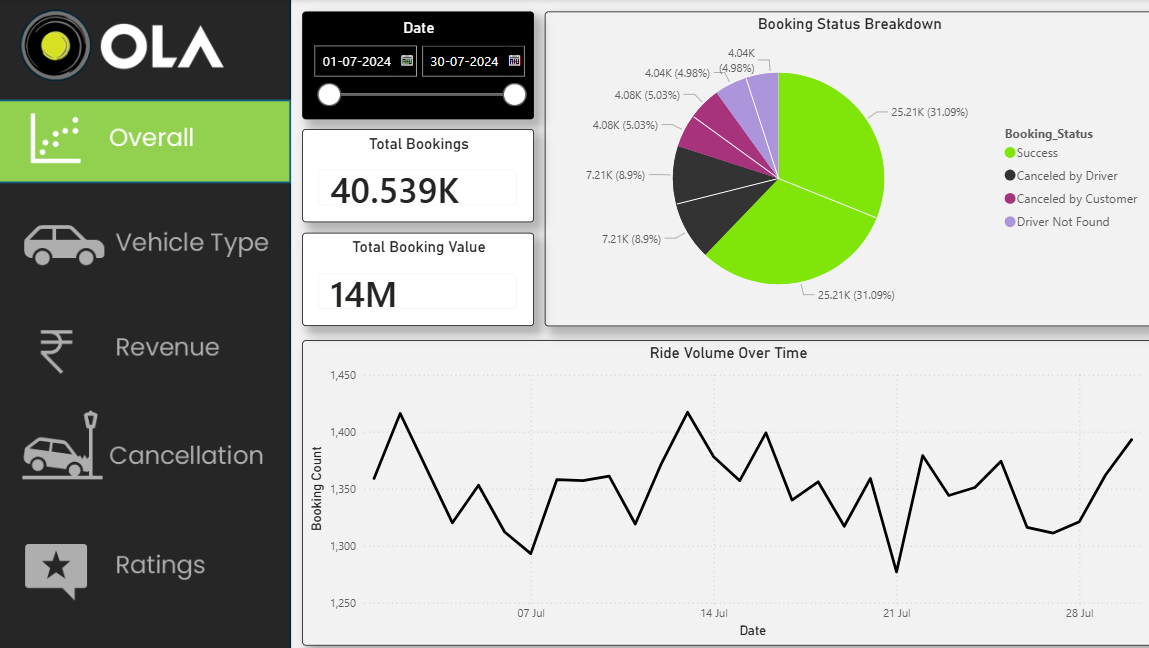

The dashboard page shown, as its layout file describes it:
{"tool":"powerbi","page":{"name":"Overall","canvas":[1280,720],"ordinal":0},"visuals":[{"type":"actionButton","box":[0,227.6,323.2,88.3],"z":0},{"type":"actionButton","box":[1,345,323.2,88.3],"z":1000},{"type":"actionButton","box":[0,449,323.2,88.3],"z":2000},{"type":"actionButton","box":[1,580.9,323.2,88.3],"z":3000},{"type":"lineChart","title":"Ride Volume Over Time","fields":{"Y":["CountNonNull(July.Booking_ID)"],"Category":["July.Date"]},"box":[336.2,374.6,934.5,334.8],"z":4000},{"type":"pieChart","title":"Booking Status Breakdown","fields":{"Category":["July.Booking_Status"],"Y":["CountNonNull(July.Booking_Status)","CountNonNull(July.Booking_ID)"]},"box":[602.4,13.7,668.3,345.8],"z":5000},{"type":"slicer","title":"Date","fields":{"Values":["July.Date"]},"box":[336,14,254.7,118.6],"z":6000},{"type":"cardVisual","title":"Total Bookings","fields":{"Data":["CountNonNull(July.Booking_ID)"]},"box":[336,143,254.7,102.3],"z":7000},{"type":"cardVisual","title":"Total Booking Value","fields":{"Data":["Sum(July.Booking_Value)"]},"box":[336,257,254.7,102.3],"z":8000}]}

Visuals, with their boxes in screenshot pixels (x1, y1, x2, y2), scaled from the page's 1280x720 canvas onto the 1149x648 screenshot:
actionButton: locate(0, 205, 290, 284)
actionButton: locate(1, 310, 291, 390)
actionButton: locate(0, 404, 290, 484)
actionButton: locate(1, 523, 291, 602)
"Ride Volume Over Time" lineChart: locate(302, 337, 1141, 638)
"Booking Status Breakdown" pieChart: locate(541, 12, 1141, 324)
"Date" slicer: locate(302, 13, 530, 119)
"Total Bookings" cardVisual: locate(302, 129, 530, 221)
"Total Booking Value" cardVisual: locate(302, 231, 530, 323)
